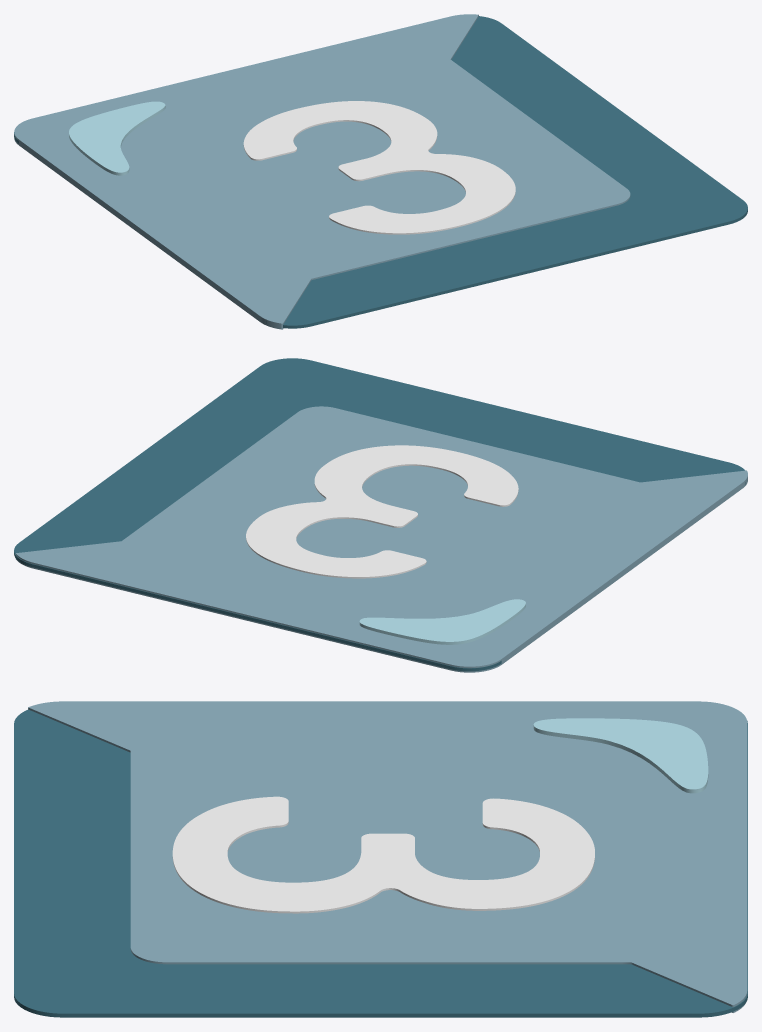
The model's file is emoji_u0033_20e3.glb.
3 views of the same model, one above another, from view 1: azimuth 30°, elevation 25°; view 2: azimuth 150°, elevation 25°; view 3: azimuth 270°, elevation 25° (orthographic). The views are drawn at different scales.
Parts seen in each view (by area): view 1: emoji_u0033_20e3; view 2: emoji_u0033_20e3; view 3: emoji_u0033_20e3.
Part boxes in pixels (x1,y1,x2,y2): emoji_u0033_20e3: (14, 14, 747, 329); emoji_u0033_20e3: (14, 358, 747, 672); emoji_u0033_20e3: (14, 701, 747, 1017).
Size of the model in its own units: 0.0339 by 0.0008 by 0.0339.
